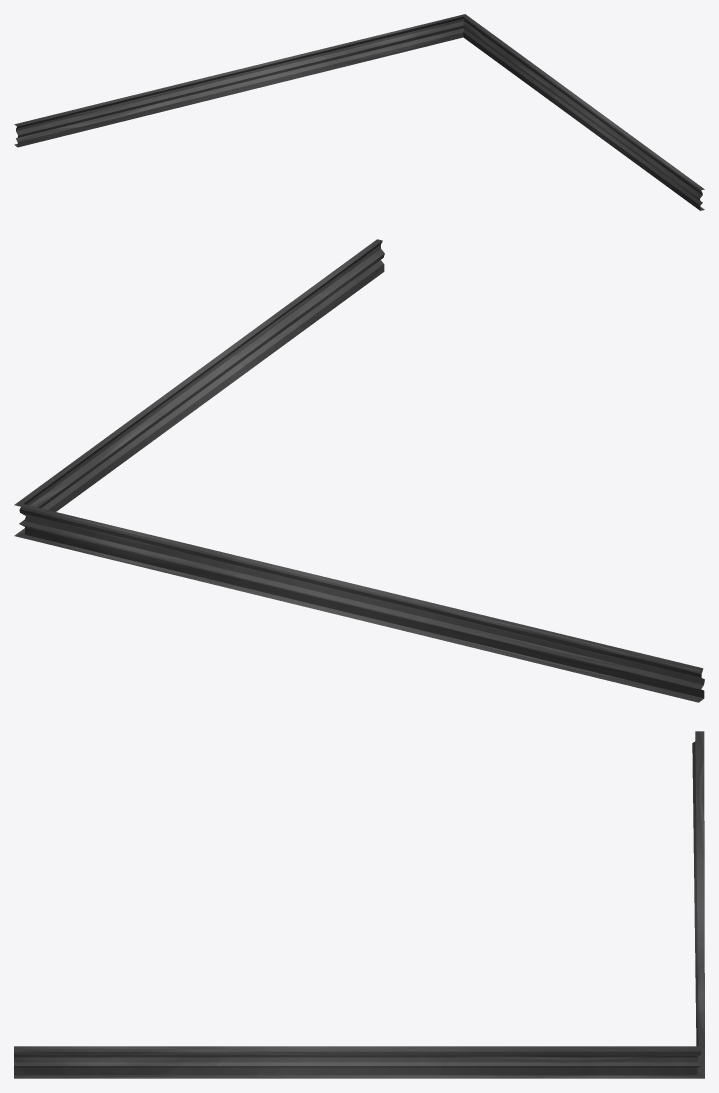
File: SM_Trim_top.fbx
3 renders of one model, top to bottom at view 1: azimuth 30°, elevation 25°; view 2: azimuth 150°, elevation 25°; view 3: azimuth 270°, elevation 25°, orthographic. The views are drawn at different scales.
Parts seen in each view (by area): view 1: SM_Trim_top; view 2: SM_Trim_top; view 3: SM_Trim_top.
Boxes of the visible parts, bbox=[...] form: SM_Trim_top: bbox=[14, 14, 704, 210]; SM_Trim_top: bbox=[14, 239, 704, 702]; SM_Trim_top: bbox=[14, 731, 704, 1078].
Size of the model in its own units: 899 by 38.78 by 826.
